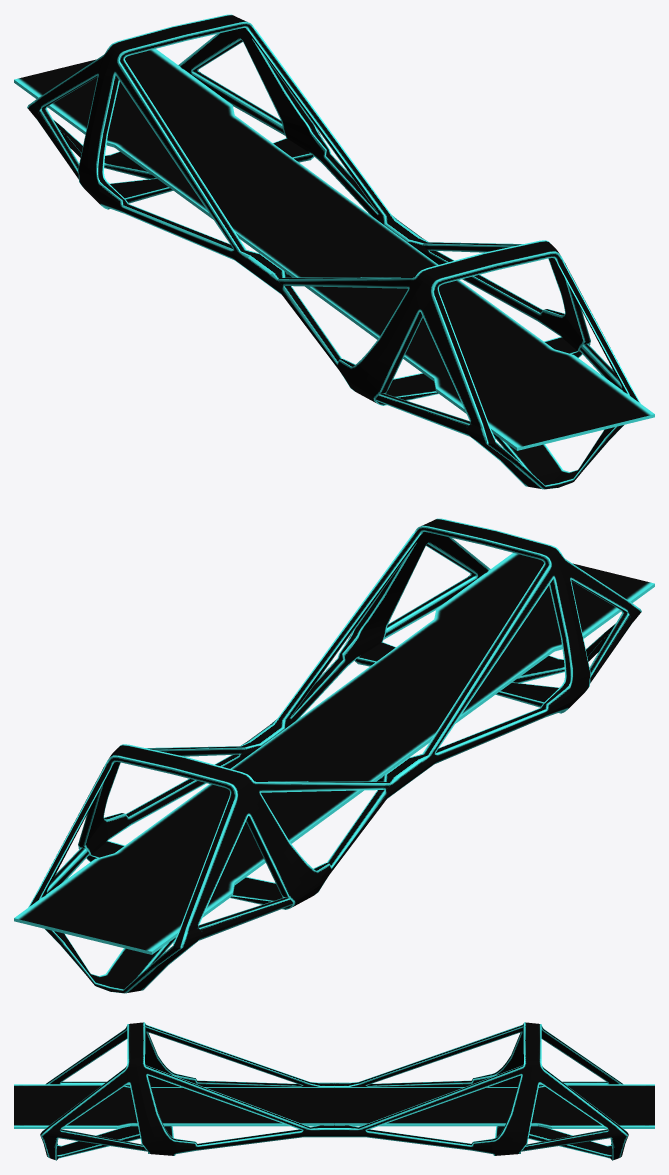
The model's file is Pont.gltf.
3 views of the same model, one above another, from view 1: azimuth 30°, elevation 25°; view 2: azimuth 150°, elevation 25°; view 3: azimuth 270°, elevation 25° (orthographic). The views are drawn at different scales.
Visible parts, largest first — view 1: Cube; view 2: Cube; view 3: Cube.
Boxes of the visible parts, <box> form: Cube: <box>14,14,654,489</box>; Cube: <box>14,518,654,993</box>; Cube: <box>14,1022,654,1160</box>.
Size of the model in its own units: 22.59 by 17.42 by 88.56.
1 material, 1 textured.
